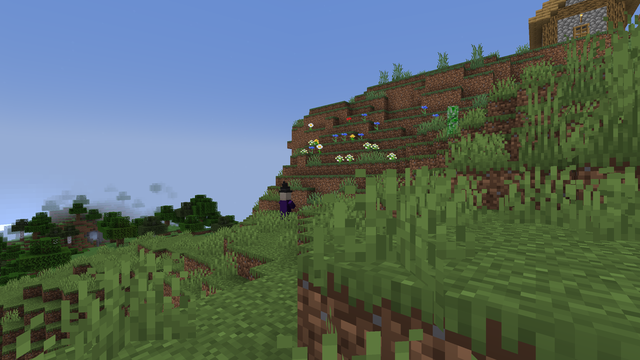creepers: (445, 103, 459, 137)
sorcieres: (278, 190, 292, 224)
